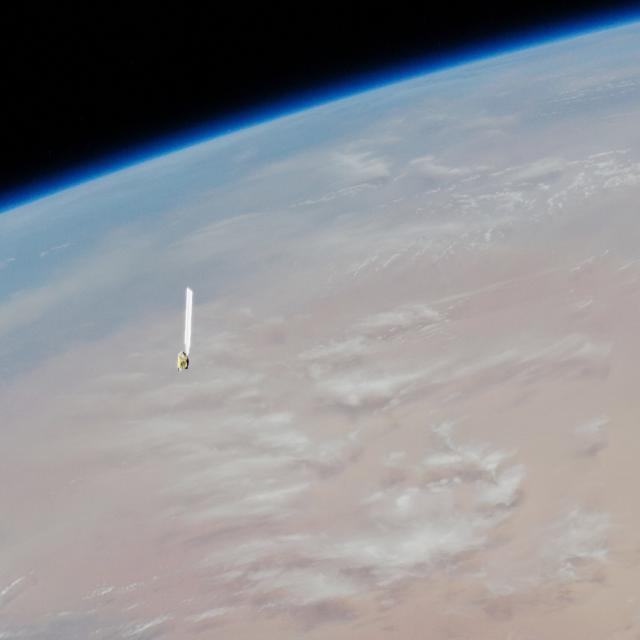rocket: (163, 282, 209, 377)
